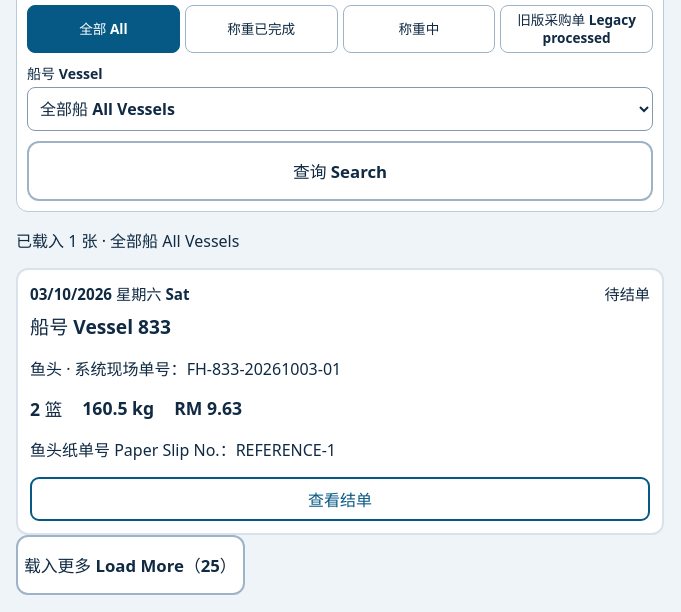
Test: fish_head shared date-first search › unlocks a timed-out next page even when it ignores abort and later resolve
The width and height of the screenshot is (681, 612).
(page scrolled)
What coordinates should you click on to do the following:
click the button "载入更多 Load More（25）"
I would click on:
 (130, 565)
Its box is [16,535,245,595].
Wait 20000 ms
(page scrolled)
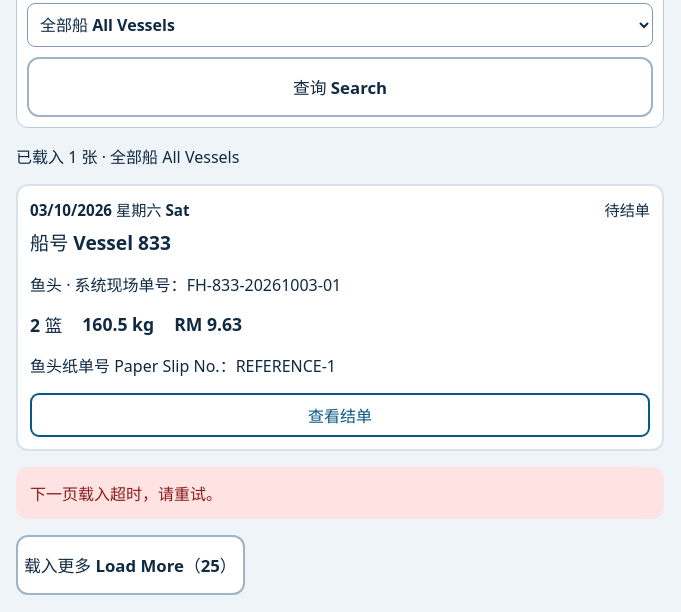
Expected: the message "下一页载入超时，请重试。" is shown, [16,467,664,519]
What coordinates should you click on to do the following:
click the button "载入更多 Load More（25）"
I would click on:
 (130, 565)
Its box is [16,535,245,595].
(page scrolled)
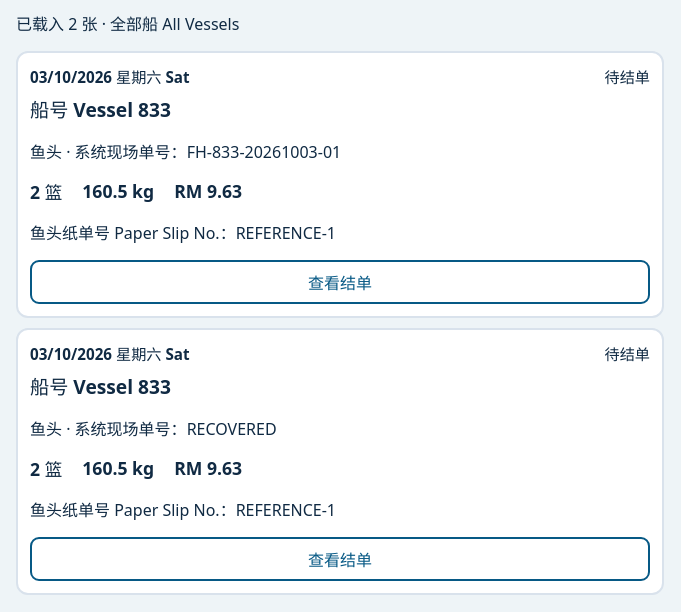
Expected: the element named "现场单 RECOVERED" is shown, [16,328,664,595]
Expected: the message "下一页载入超时，请重试。" is gone
